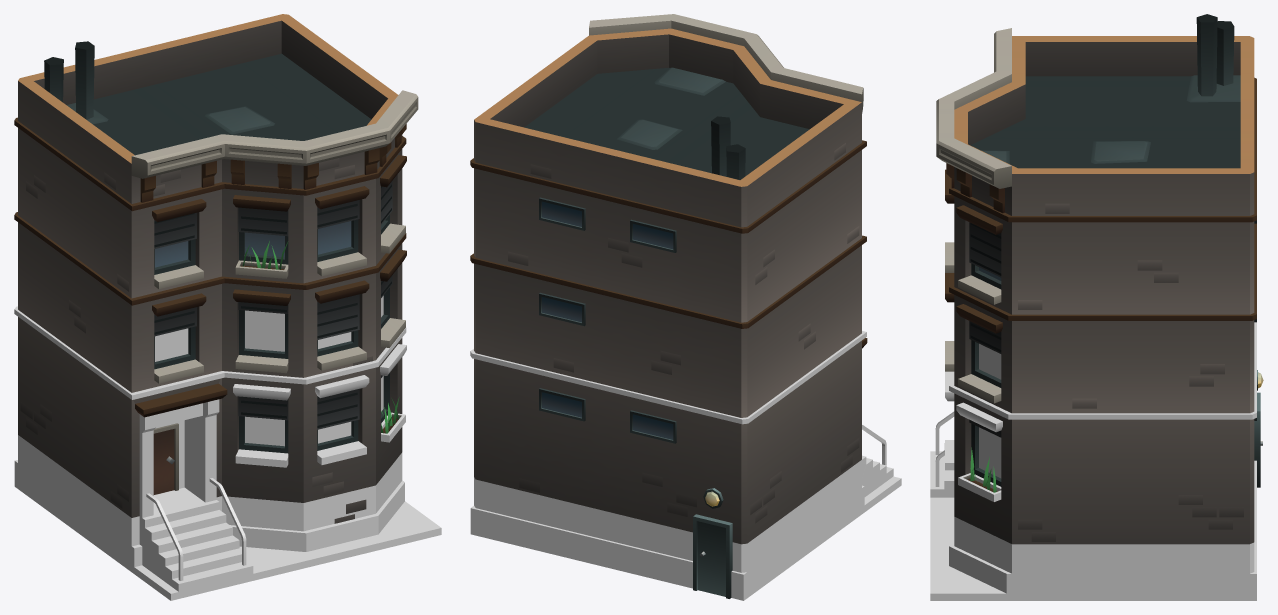
Rendered from Building_3.fbx.
3 renders of one model, left to right at view 1: azimuth 30°, elevation 25°; view 2: azimuth 150°, elevation 25°; view 3: azimuth 270°, elevation 25°, orthographic. The views are drawn at different scales.
Parts seen in each view (by area): view 1: Building_3; view 2: Building_3; view 3: Building_3.
Part boxes in pixels (x1=…): Building_3: x1=14, y1=14, x2=441, y2=600; Building_3: x1=470, y1=14, x2=901, y2=600; Building_3: x1=930, y1=14, x2=1263, y2=600.
Size of the model in its own units: 994 by 1516 by 979.
